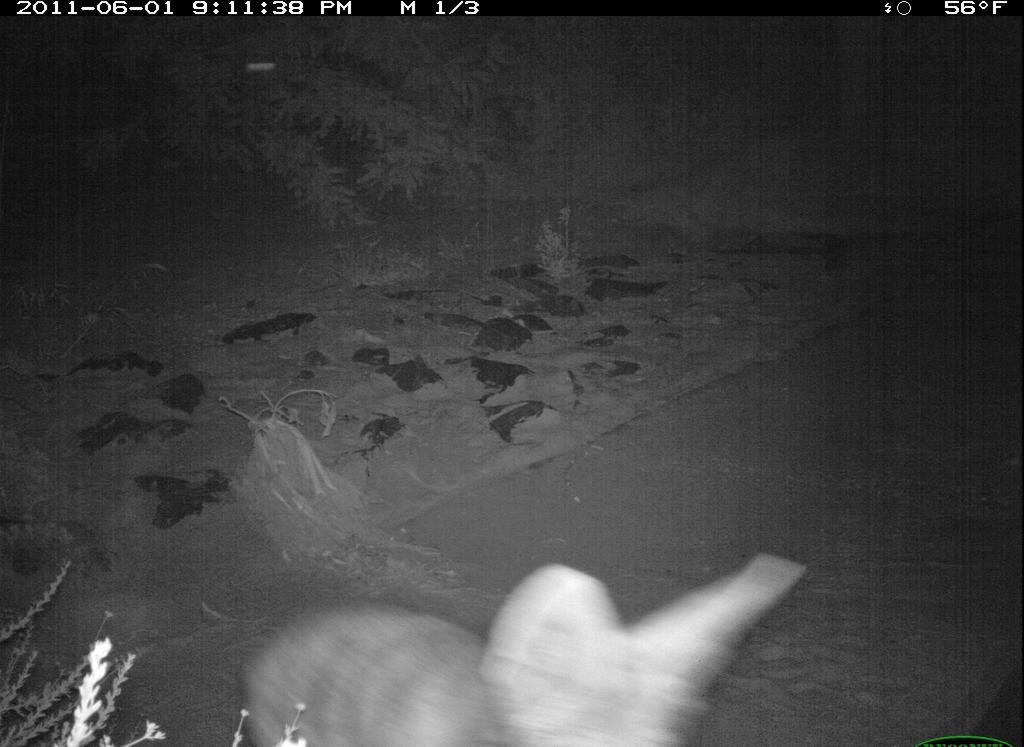coyote: (245, 546, 815, 747)
